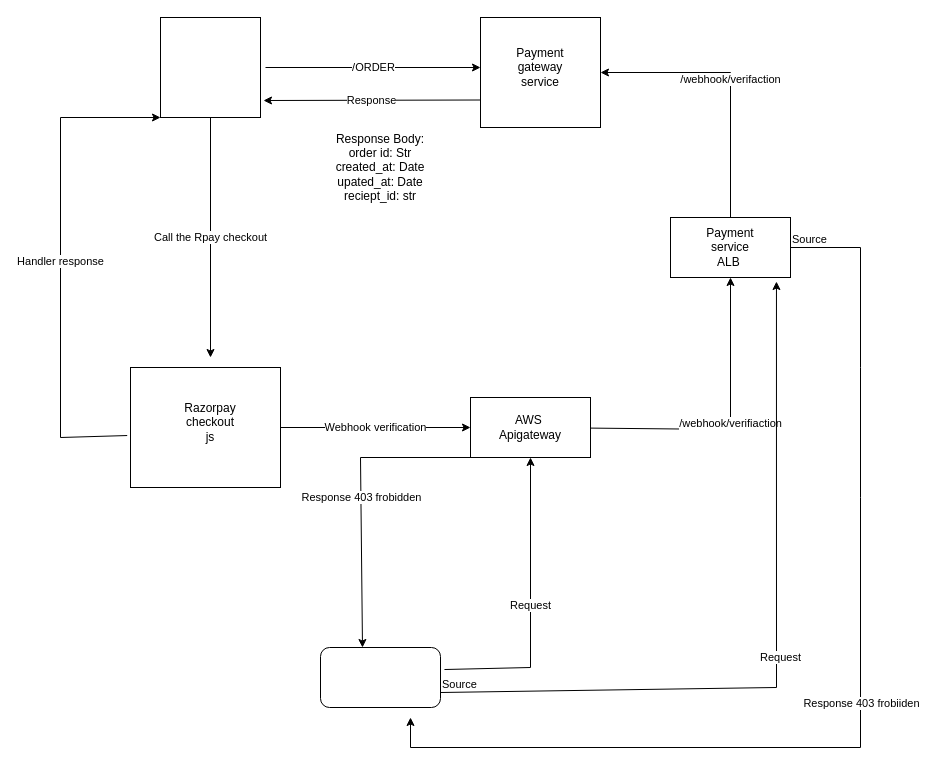
Image size: 936x773. Some labels were removed from this diagram. Here are the shapes that lost their labels. From the top down, the box of each, then its label:
(160, 16, 260, 118): FRONTEND
(320, 646, 440, 708): External source
